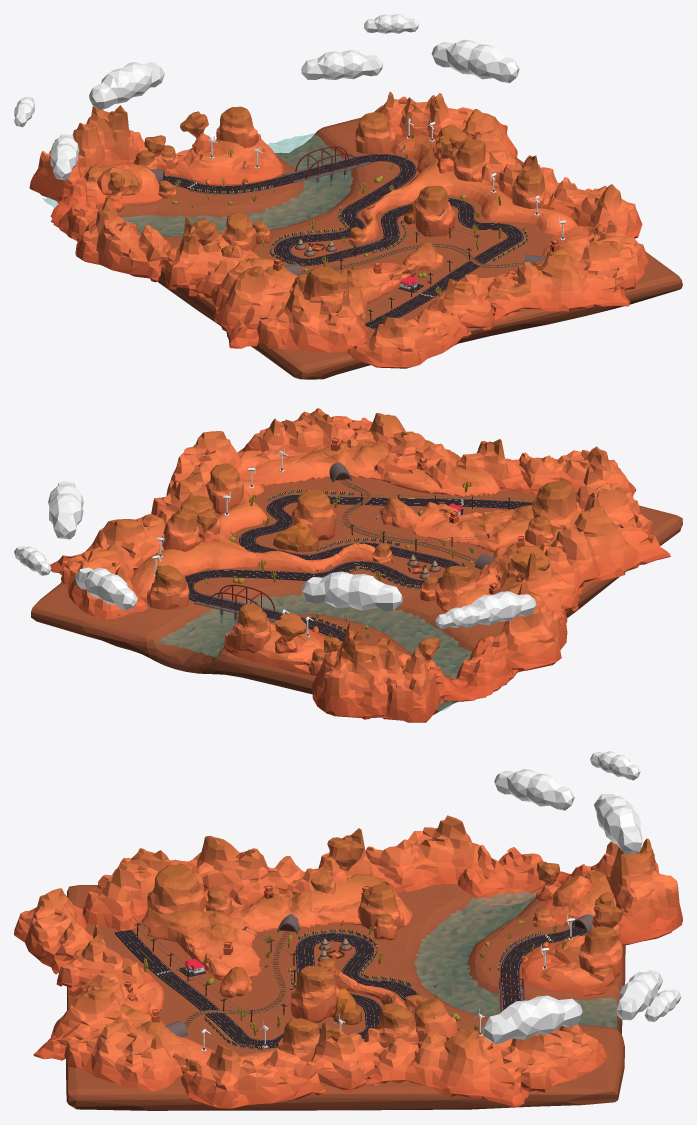
Rendered from showcaseDesertRaceMap.c67593e7.glb.
3 views of the same model, one above another, from view 1: azimuth 30°, elevation 25°; view 2: azimuth 150°, elevation 25°; view 3: azimuth 270°, elevation 25° (orthographic). The views are drawn at different scales.
Parts seen in each view (by area): view 1: Plane.006, Plane.054, Plane.058, Plane.055, Plane.005, Plane.021, Plane.057, Plane.089, Plane.017, Cliff4.002, Mball.003, Mball.006 (+17 smaller); view 2: Plane.006, Plane.054, Plane.021, Plane.058, Plane.057, Plane.055, Plane.089, Plane.005, Cliff4.002, Mball.006, Plane.017, Cliff2.018 (+20 smaller); view 3: Plane.006, Plane.055, Plane.058, Plane.054, Cliff4.002, Plane.057, Plane.089, Plane.005, Plane.017, Plane.021, Mball.003, Cliff2.018 (+20 smaller).
Part boxes in pixels (x1,y1,x2,y2): Plane.006: (96,117,682,379); Plane.054: (75,198,368,352); Plane.058: (347,220,648,368); Plane.055: (374,91,642,238); Plane.005: (163,154,523,330); Plane.021: (361,135,604,310); Plane.057: (29,105,169,241); Plane.089: (42,132,353,236); Plane.017: (82,134,283,205); Cliff4.002: (214,232,443,318); Mball.003: (431,39,519,83); Mball.006: (89,62,164,109); Plane.006: (31,421,682,715); Plane.054: (494,465,670,670); Plane.021: (131,440,500,597); Plane.058: (243,408,635,496); Plane.057: (312,620,522,722); Plane.055: (50,431,243,619); Plane.089: (155,594,471,711); Plane.005: (185,495,532,642); Cliff4.002: (380,497,562,612); Mball.006: (302,571,402,611); Plane.017: (224,623,405,674); Cliff2.018: (531,480,581,530); Plane.006: (66,884,625,1110); Plane.055: (181,1022,607,1108); Plane.058: (14,888,182,1091); Plane.054: (82,815,485,930); Cliff4.002: (142,874,412,997); Plane.057: (457,838,682,945); Plane.089: (414,890,616,1028); Plane.005: (115,926,586,1048); Plane.017: (522,870,617,995); Plane.021: (85,957,512,1073); Mball.003: (482,995,582,1043); Cliff2.018: (147,864,206,913).
Size of the model in its own units: 22040 by 5913 by 24623.
2 materials, 2 textured.
